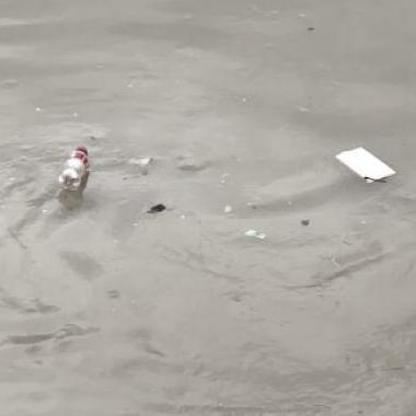foam: (337, 146, 396, 182)
plastic bag: (60, 145, 89, 189)
